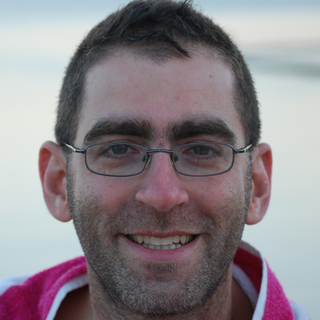eye: (176, 140, 217, 161), (97, 142, 139, 159)
